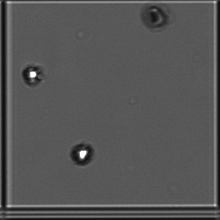Dead Cell: (138, 5, 172, 37)
Living Cell: (64, 136, 95, 177), (20, 61, 48, 94)
